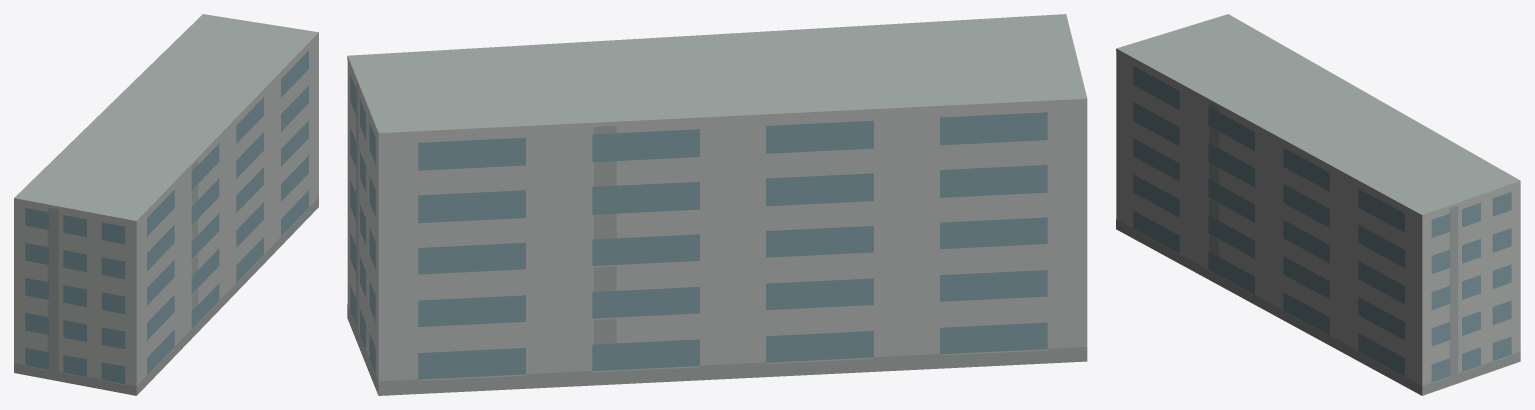
Rendered from residential-2bd6925a-368b-46f4-9772-48b07393ff86.glb.
3 views of the same model, side by side, from view 1: azimuth 30°, elevation 25°; view 2: azimuth 150°, elevation 25°; view 3: azimuth 270°, elevation 25° (orthographic). The views are drawn at different scales.
Parts seen in each view (by area): view 1: residential-2bd6925a-368b-46f4-9772-48b07393ff86.tmp; view 2: residential-2bd6925a-368b-46f4-9772-48b07393ff86.tmp; view 3: residential-2bd6925a-368b-46f4-9772-48b07393ff86.tmp.
Part boxes in pixels (<box>): residential-2bd6925a-368b-46f4-9772-48b07393ff86.tmp: <box>14,14,318,395</box>; residential-2bd6925a-368b-46f4-9772-48b07393ff86.tmp: <box>347,14,1087,395</box>; residential-2bd6925a-368b-46f4-9772-48b07393ff86.tmp: <box>1116,14,1520,395</box>.
Bounding box in the file's own units: 36.39 × 15.25 × 30.93.
